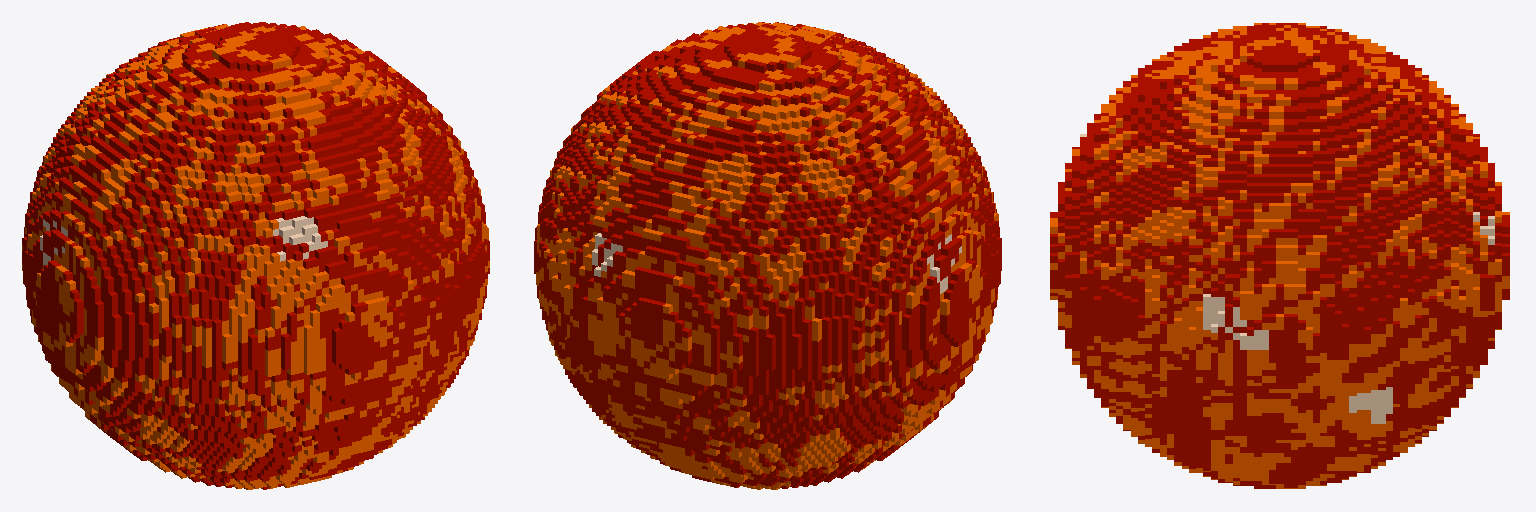
3 views of the same model, side by side, from view 1: azimuth 30°, elevation 25°; view 2: azimuth 150°, elevation 25°; view 3: azimuth 270°, elevation 25° (orthographic).
Parts seen in each view (by area): view 1: SUN; view 2: SUN; view 3: SUN.
Boxes of the visible parts, <box> form: SUN: <box>22,22,489,489</box>; SUN: <box>534,22,1001,489</box>; SUN: <box>1050,23,1509,488</box>.
Size of the model in its own units: 63 by 63 by 63.
Materials: 1 (1 with a texture image).